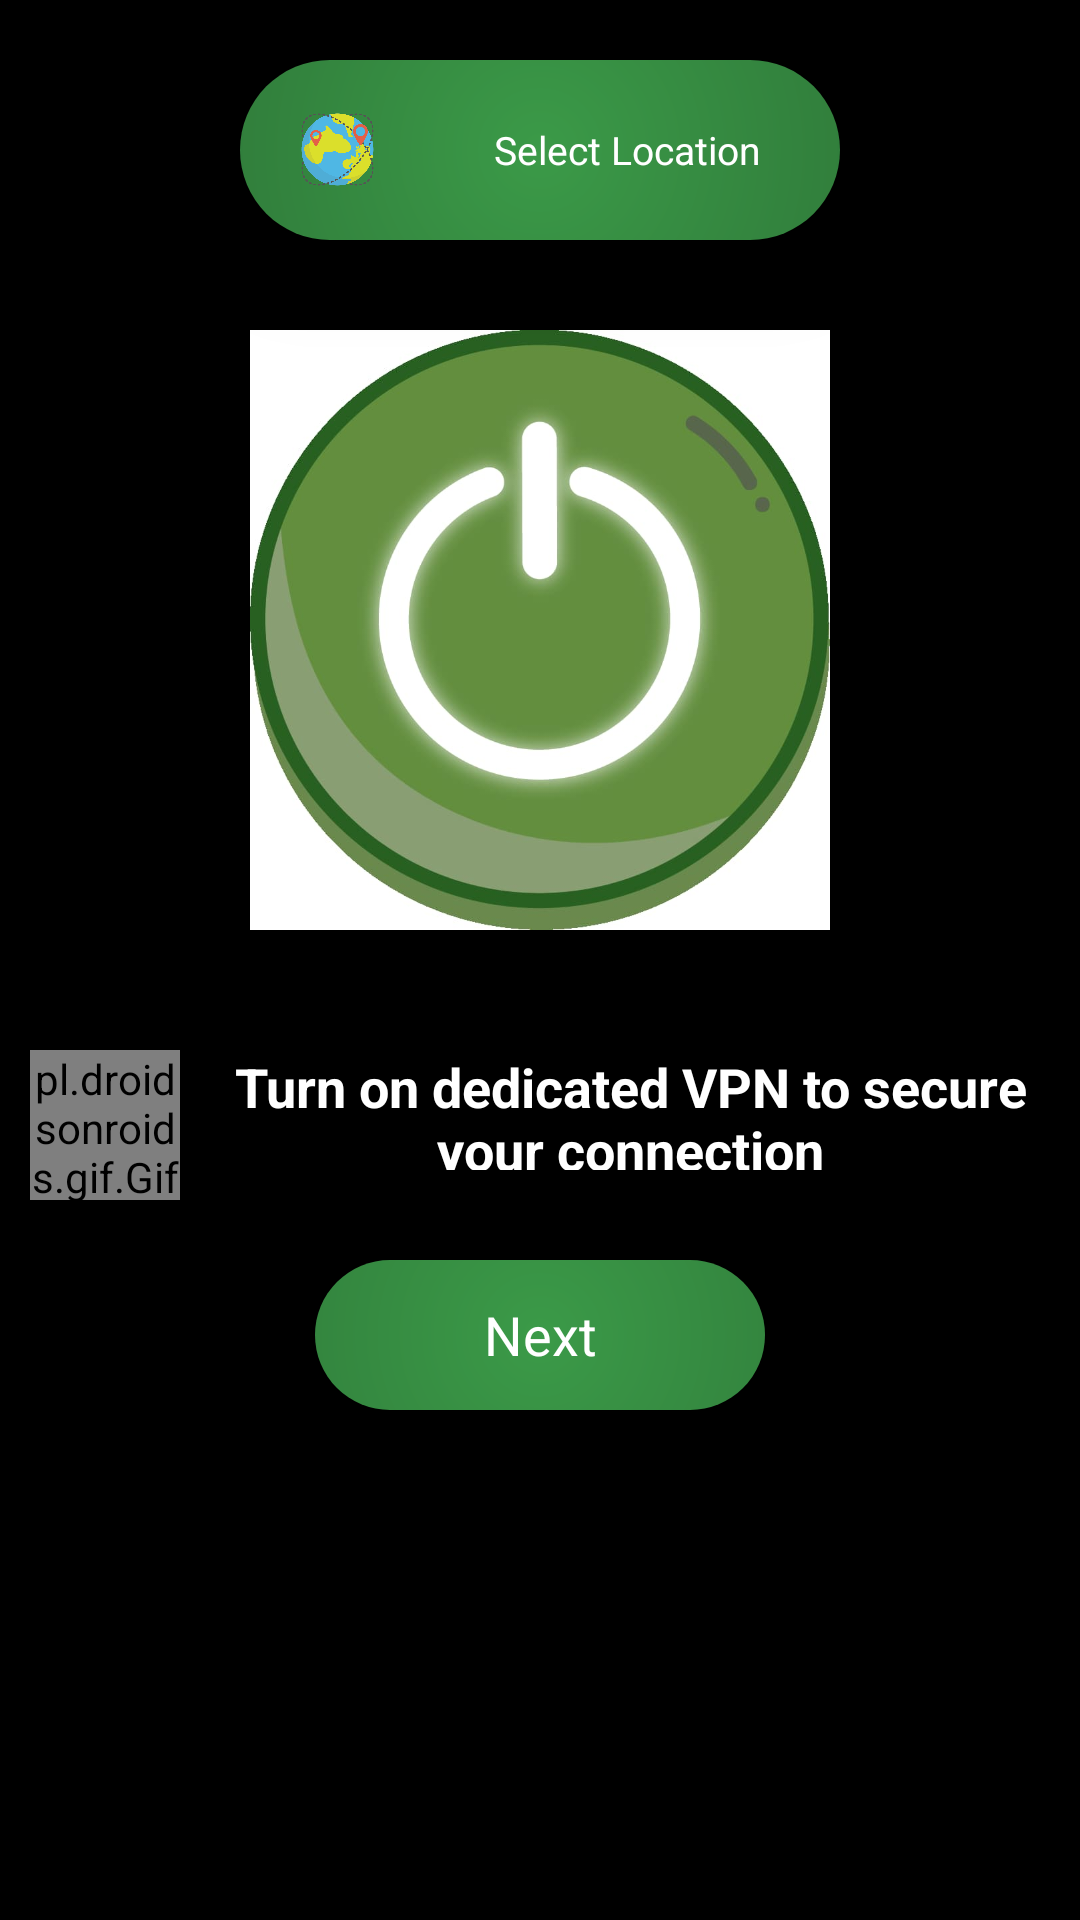

Where icons sit on this 1080*1920 app screen, as (x1, y1, x2, y2):
earth: (301, 113, 374, 186)
